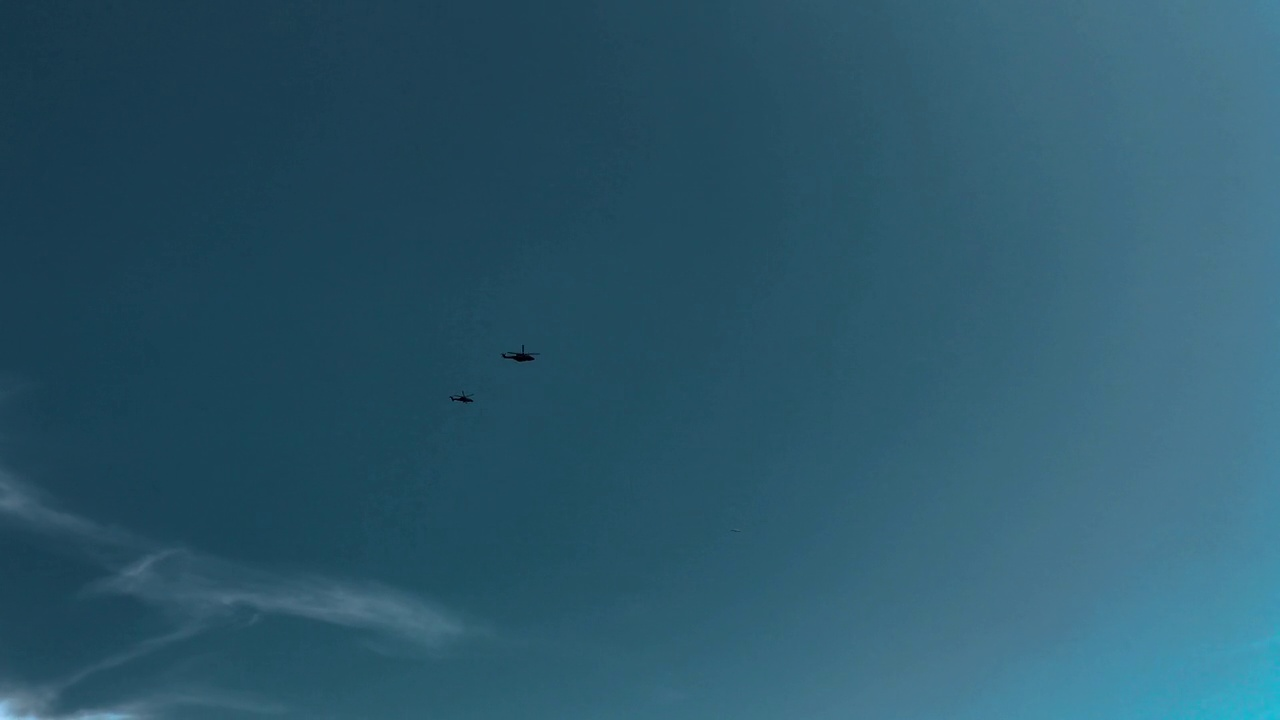heli: (501, 344, 540, 363), (450, 390, 474, 403)
